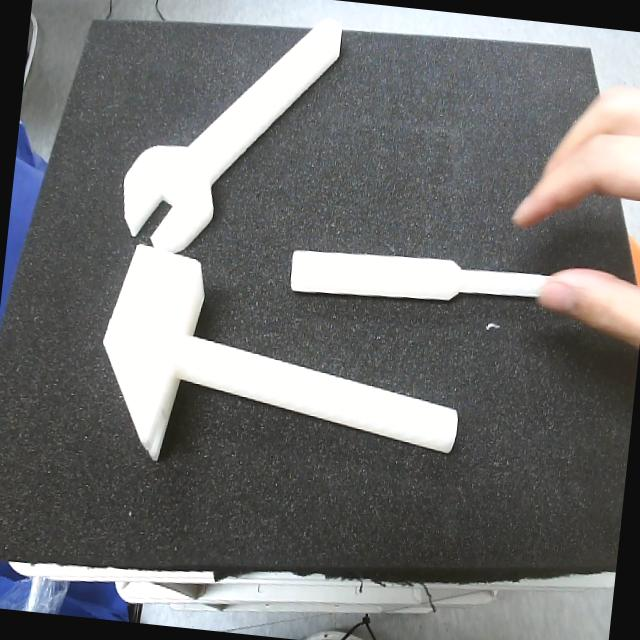Hammer: (100, 241, 461, 464)
Spanner: (123, 19, 341, 257)
